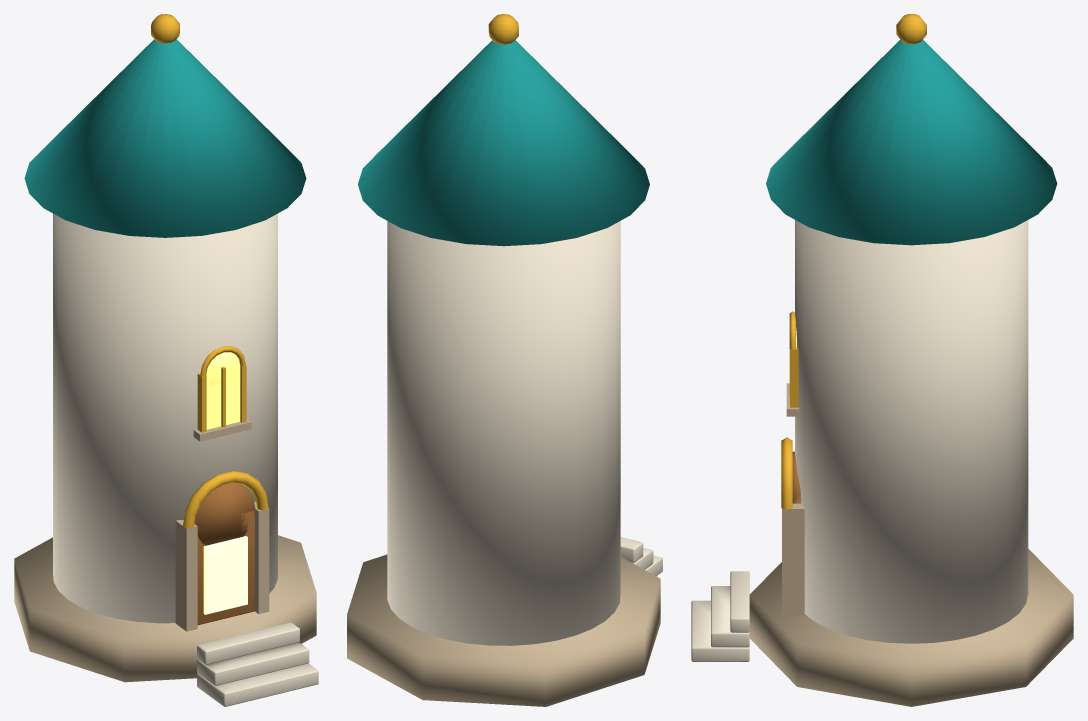
File: turn_2.glb
The picture shows the model from 3 angles, left to right: view 1: azimuth 30°, elevation 25°; view 2: azimuth 150°, elevation 25°; view 3: azimuth 270°, elevation 25°; orthographic projection. The views are drawn at different scales.
Visible parts, largest first — view 1: Turn.001; view 2: Turn.001; view 3: Turn.001.
Part boxes in pixels (box(x1,y1,x2,y2)): Turn.001: box(14, 14, 318, 706); Turn.001: box(347, 14, 662, 706); Turn.001: box(691, 14, 1073, 706).
Size of the model in its own units: 2 by 4.25 by 2.36.
